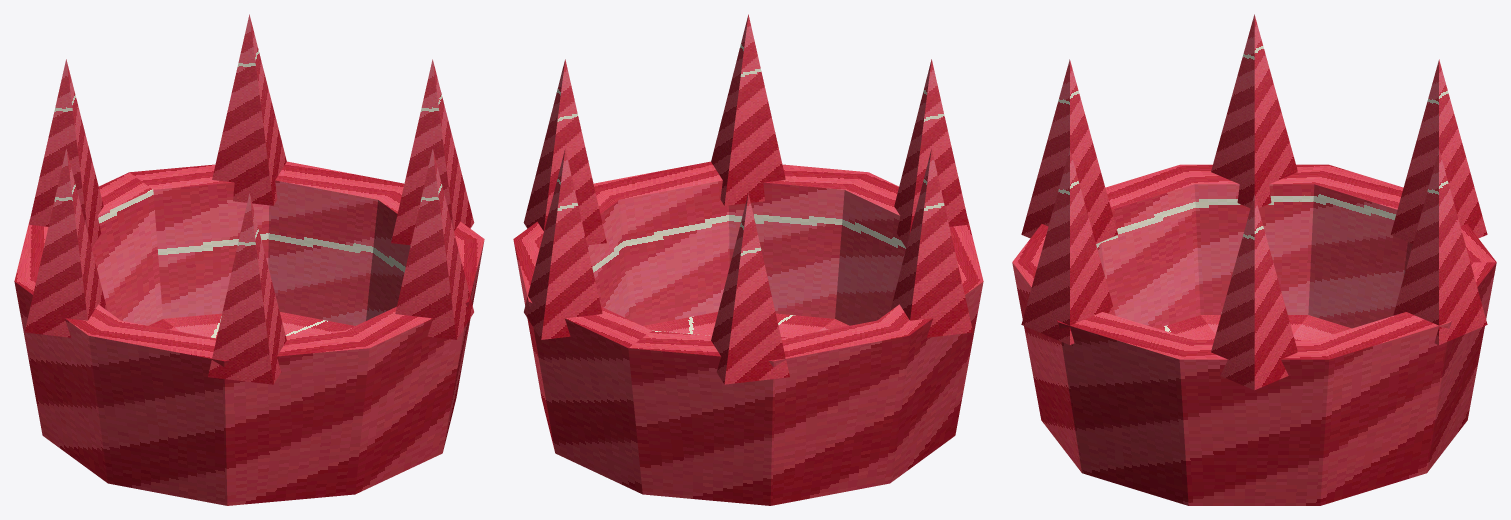
File: reliquia_sagrada_03.glb
The picture shows the model from 3 angles, left to right: view 1: azimuth 30°, elevation 25°; view 2: azimuth 150°, elevation 25°; view 3: azimuth 270°, elevation 25°; orthographic projection.
Visible parts, largest first — view 1: reliquia_sagrada_03; view 2: reliquia_sagrada_03; view 3: reliquia_sagrada_03.
Boxes of the visible parts, x1,y1,x2,y2 form: reliquia_sagrada_03: [14, 14, 484, 505]; reliquia_sagrada_03: [513, 14, 983, 505]; reliquia_sagrada_03: [1012, 14, 1496, 505].
Bounding box in the file's own units: 0.54 × 0.36 × 0.5.
Materials: 1 (1 with a texture image).
